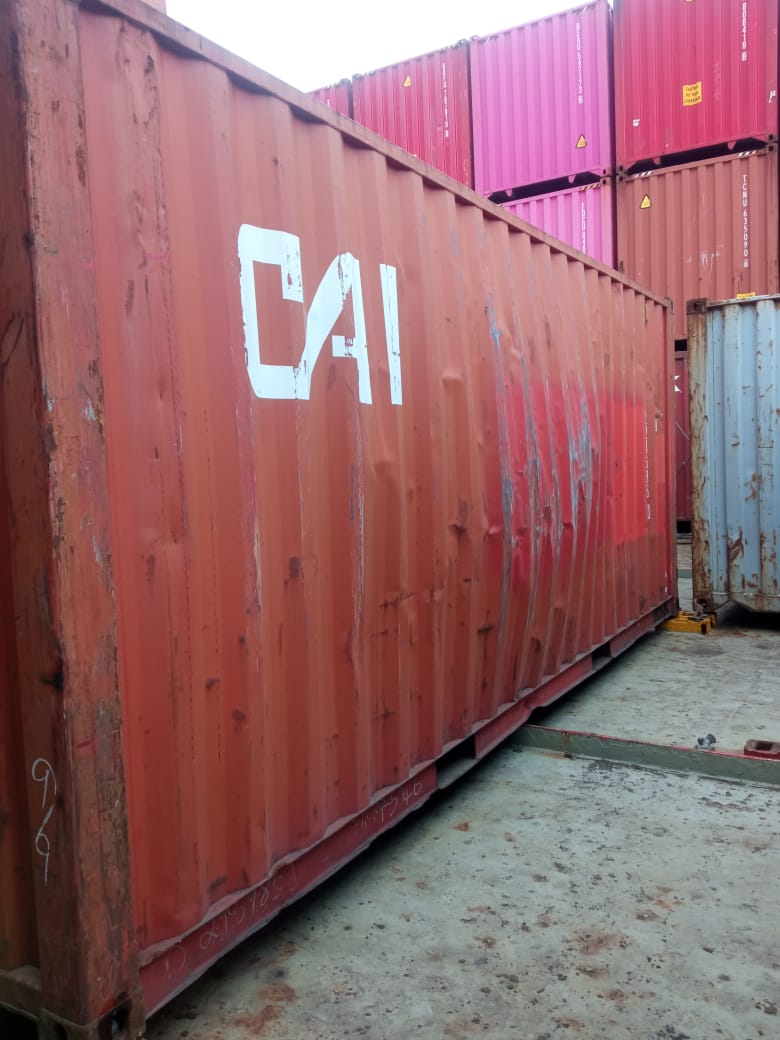moderate: (309, 339, 655, 632)
